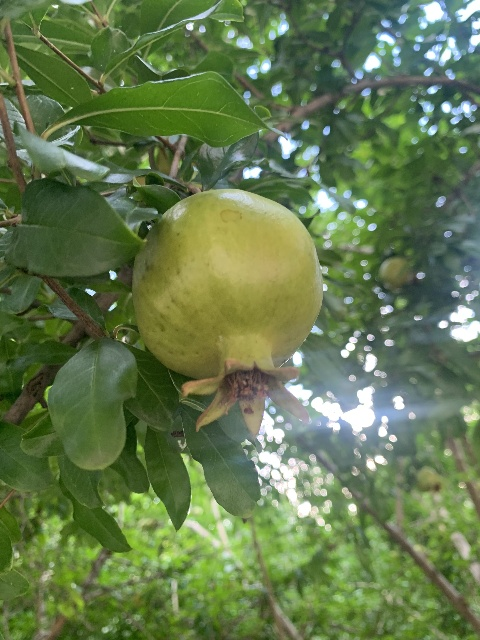mid-growth: (134, 186, 323, 443), (379, 257, 414, 294), (416, 467, 443, 497)
